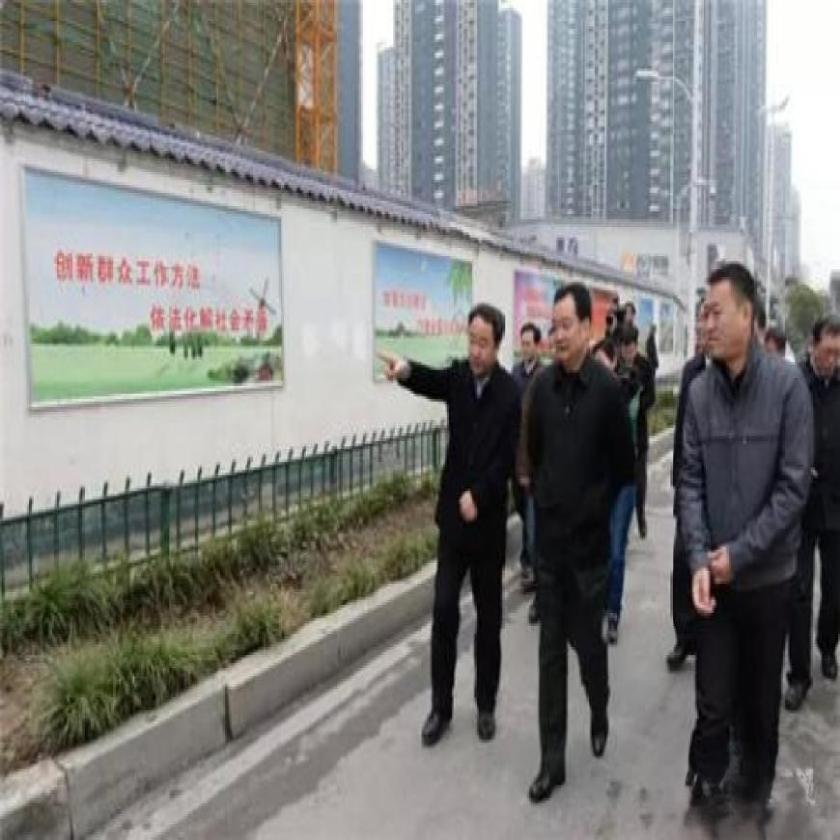Sin_casco: (687, 253, 762, 381), (457, 299, 509, 392), (545, 282, 594, 372), (813, 312, 840, 386), (519, 319, 545, 366)
